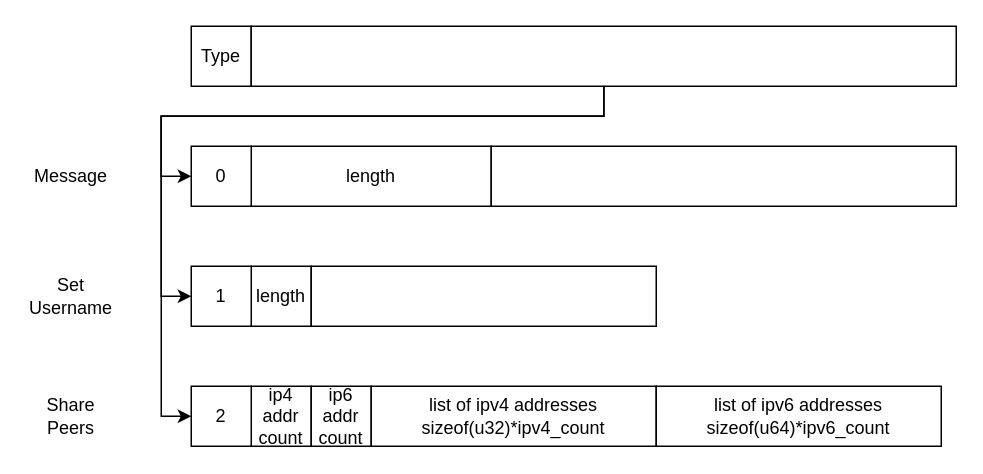
Image size: 983x474. Some labels were removed from this diagram. The shapes that lost their labels are listed below. From the top down, each one's centre as x and y in pixels, then its label:
point (603, 55): Payload
point (723, 175): message sizeof(u8) * length
point (483, 295): username sizeof(u8) * length
